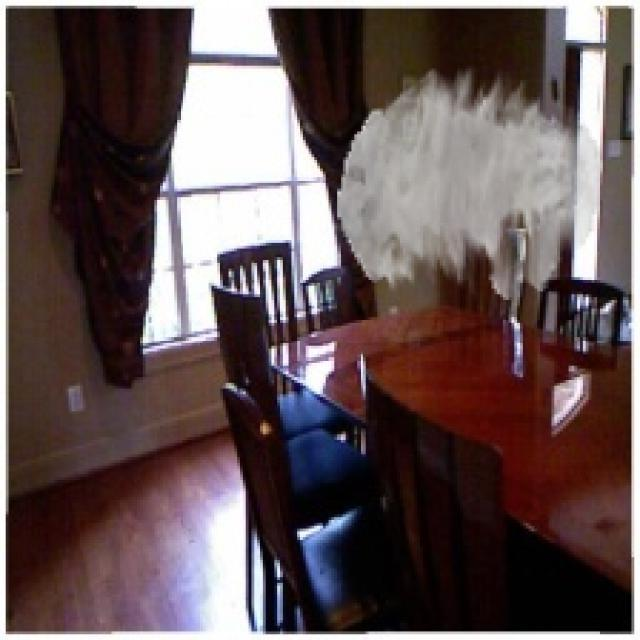Smoke: (337, 66, 603, 300)
